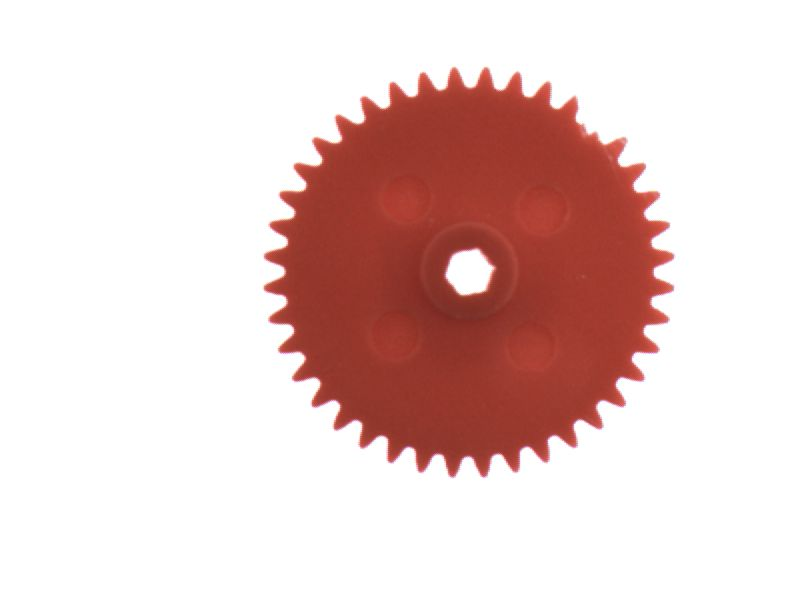defect_lack: (562, 100, 634, 152)
